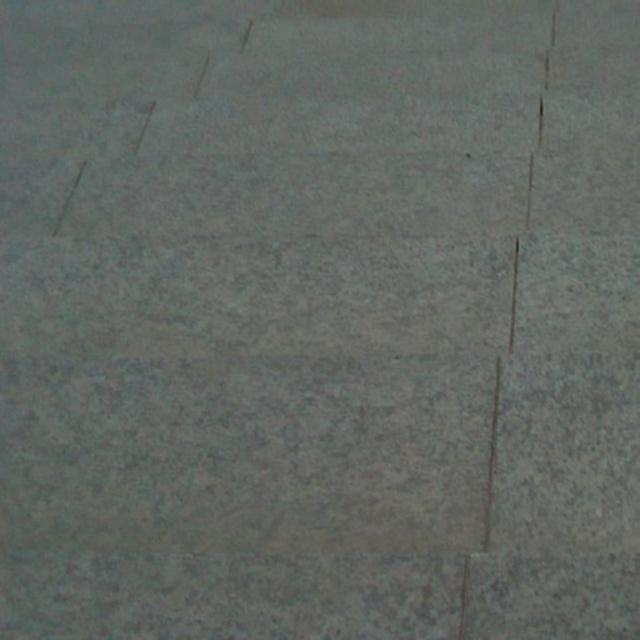stair: (0, 14, 620, 569)
